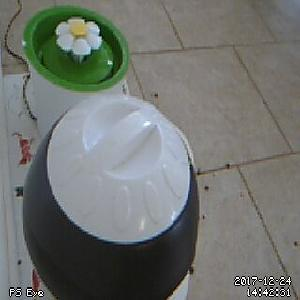fountain: (22, 5, 130, 92)
